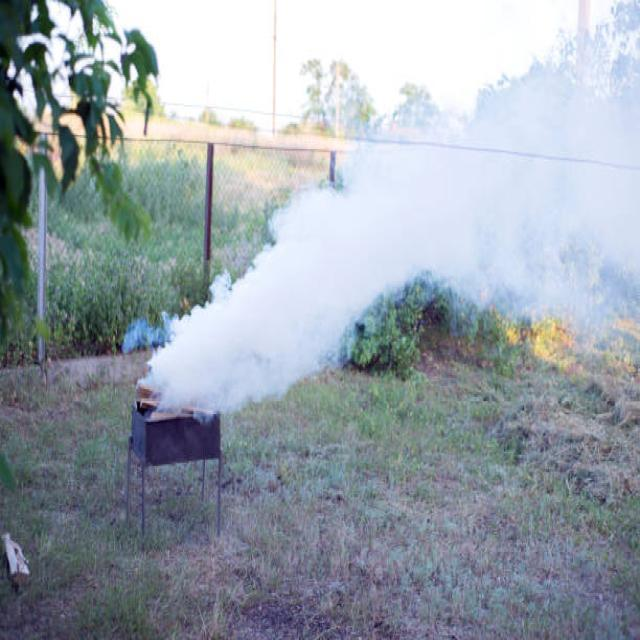Fire: (504, 310, 572, 364)
Smoke: (133, 0, 640, 418)
